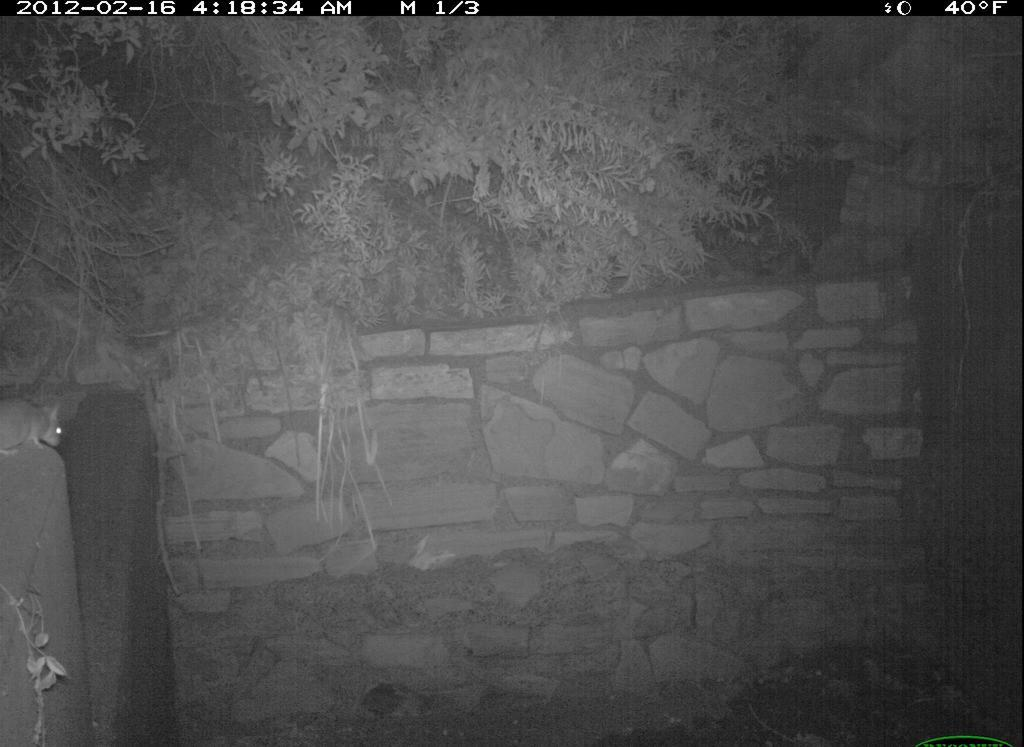rodent: (3, 378, 75, 463)
